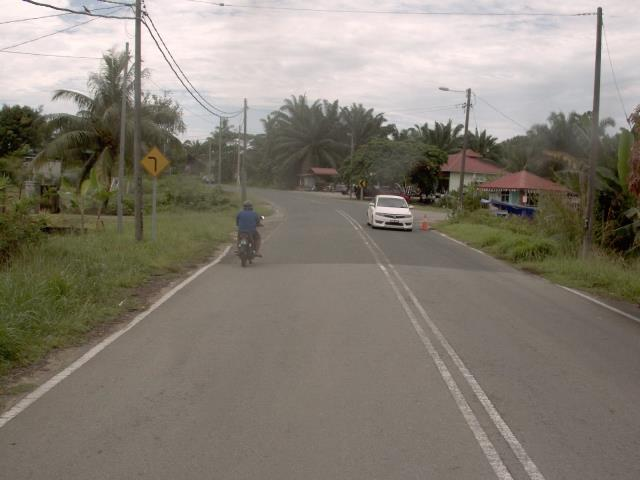traffic_sign: (134, 140, 175, 181)
